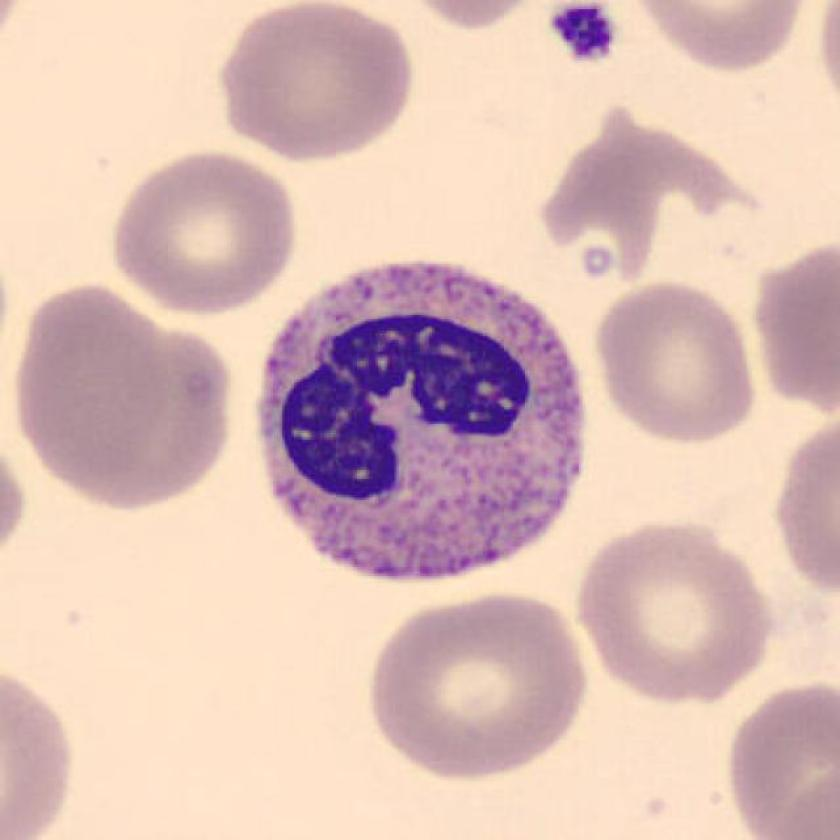neutrophil: (260, 268, 583, 575)
